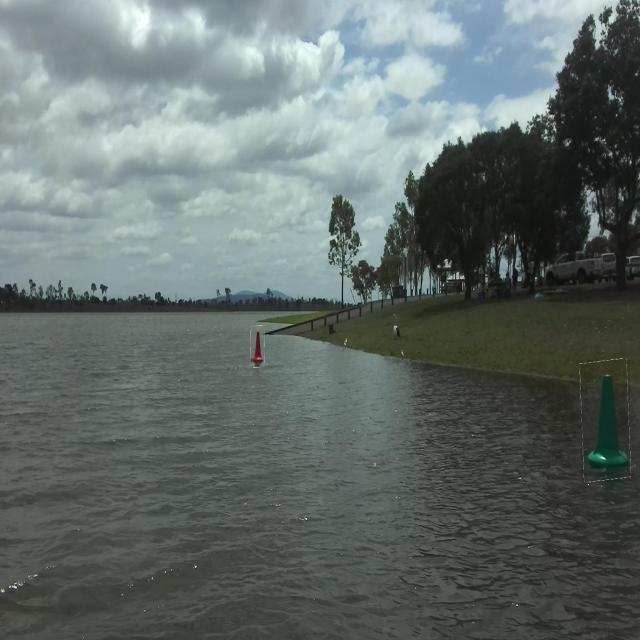Green_Buoy: (580, 364, 629, 479)
Red_Buoy: (249, 324, 266, 367)
